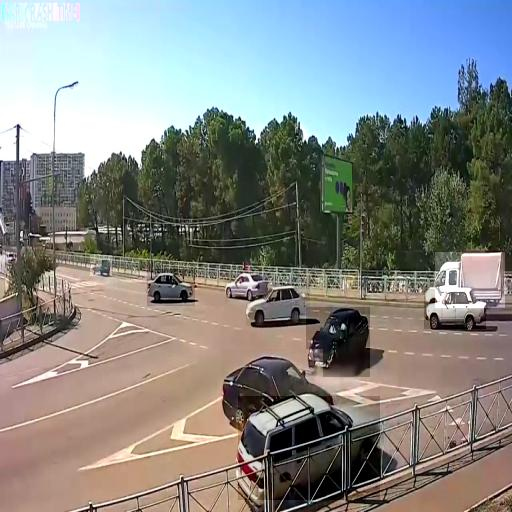小汽车: (238, 396, 380, 500), (221, 349, 323, 424), (306, 307, 370, 377), (435, 252, 505, 308), (246, 284, 310, 326), (424, 289, 486, 329), (147, 269, 195, 306), (225, 268, 270, 302), (90, 255, 112, 276)
